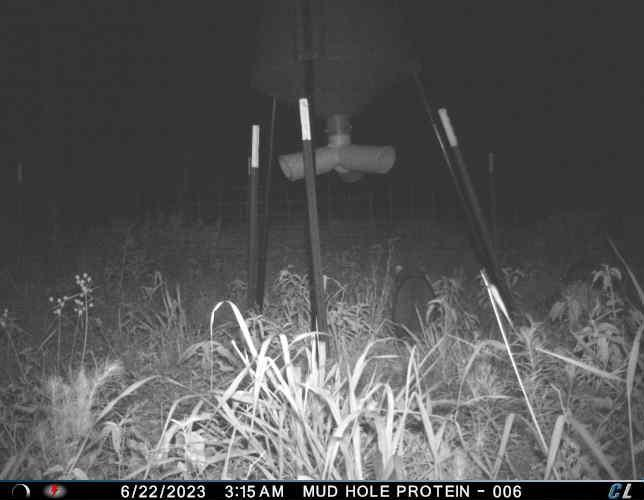Raccoon: (388, 261, 441, 339)
